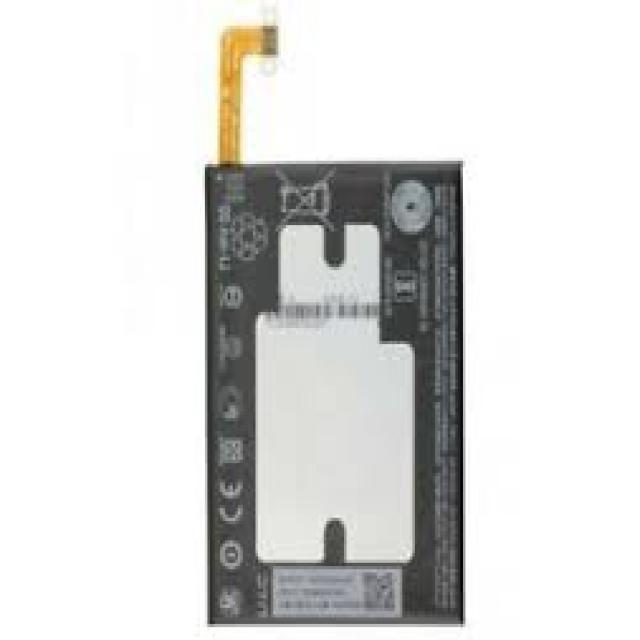battery: (205, 21, 466, 624)
